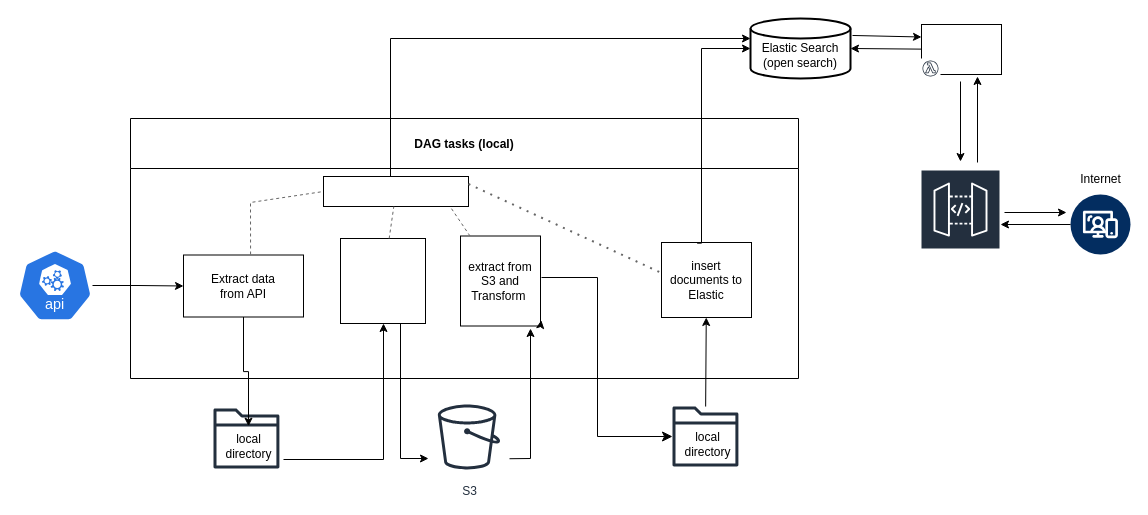
The diagram is 1148 pixels wide and 515 high, and some of its shapes have lost their labels. Each missing label, with the box of its shape:
Amazon API Gateway: (920, 168, 1000, 280)
insert to "log ETL" index: (322, 176, 468, 206)
search_word: (920, 24, 1002, 74)
store data into S3 bucket: (340, 238, 426, 324)
